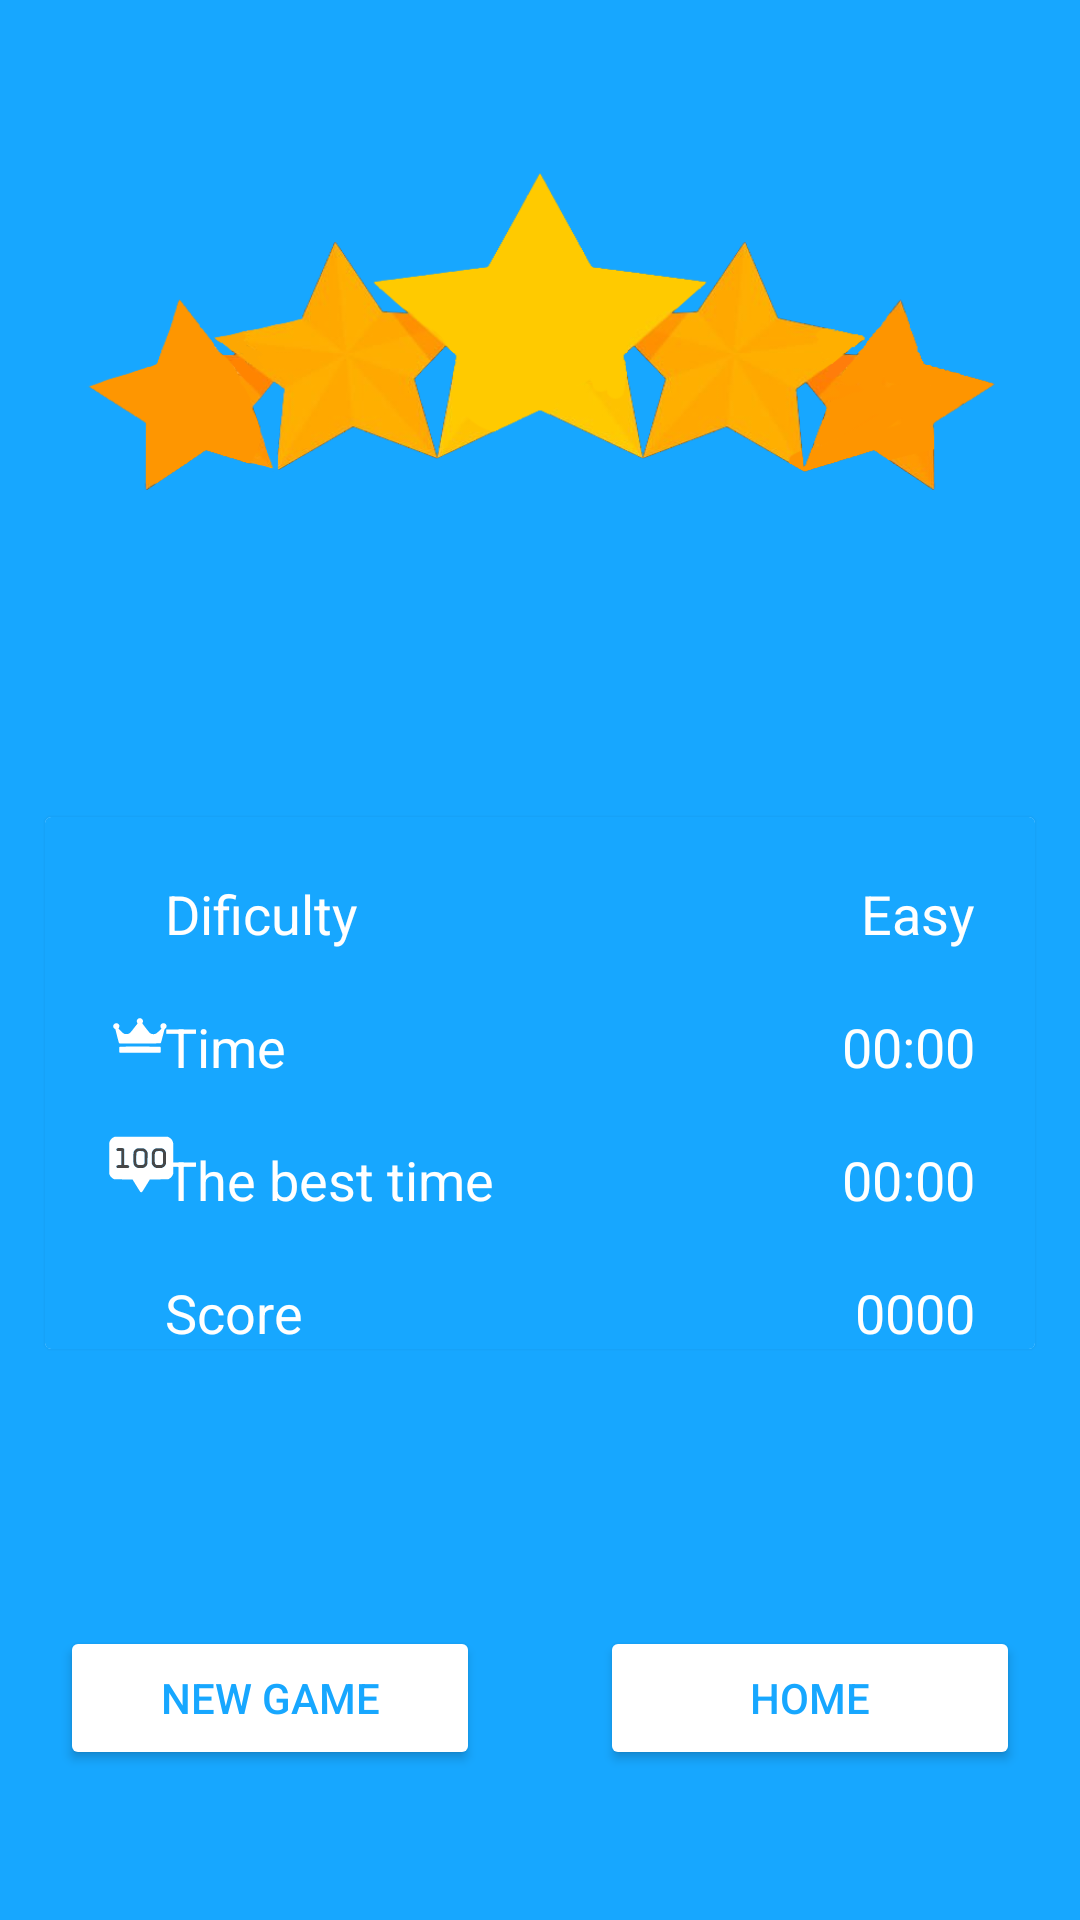

Where icons sit on this 1080px x 1920px app screen, as (x1, y1, x2, y2):
crown: (113, 1018, 177, 1053)
